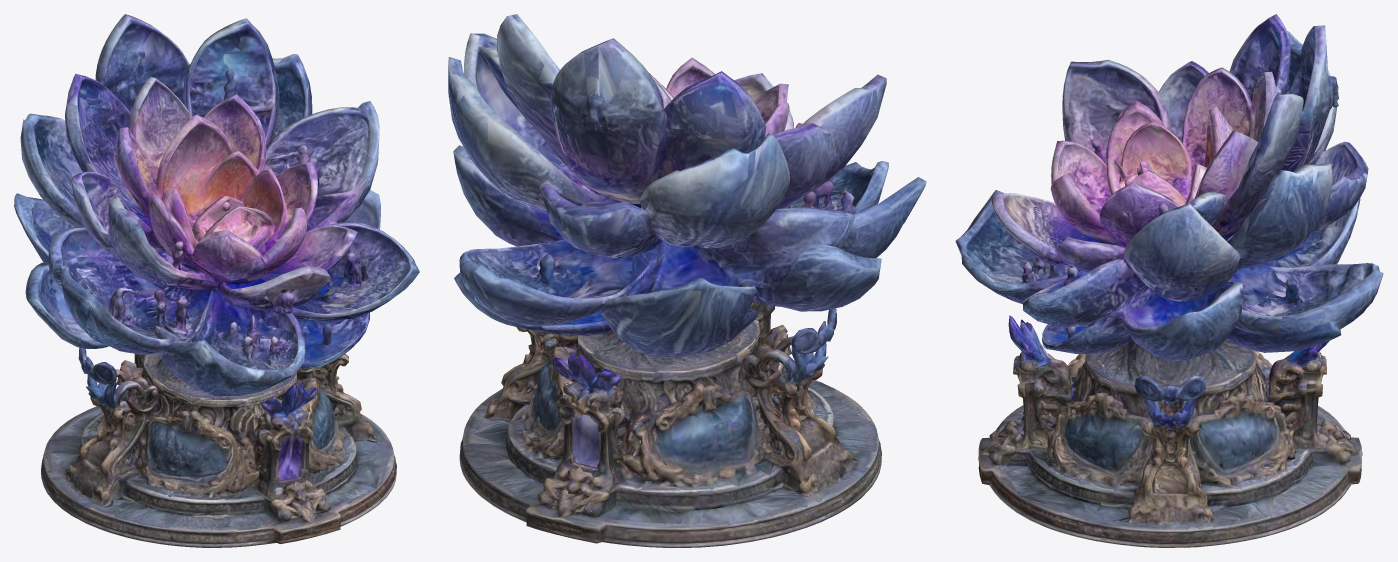
The model's file is Crystal_Lotus_of_Echo.glb.
The picture shows the model from 3 angles, left to right: view 1: azimuth 30°, elevation 25°; view 2: azimuth 150°, elevation 25°; view 3: azimuth 270°, elevation 25°; orthographic projection. The views are drawn at different scales.
Parts seen in each view (by area): view 1: Crystal_Lotus_of_Echo; view 2: Crystal_Lotus_of_Echo; view 3: Crystal_Lotus_of_Echo.
Boxes of the visible parts, x1,y1,x2,y2 form: Crystal_Lotus_of_Echo: (14,14,419,547); Crystal_Lotus_of_Echo: (448,14,926,547); Crystal_Lotus_of_Echo: (955,14,1383,547).
Size of the model in its own units: 1.71 by 1.9 by 1.7.
Materials: 1 (1 with a texture image).
